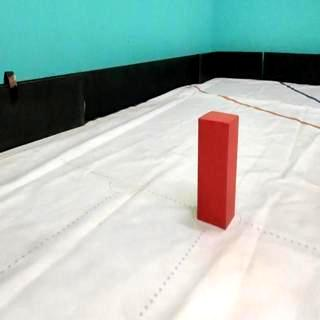redbox: (196, 110, 238, 230)
